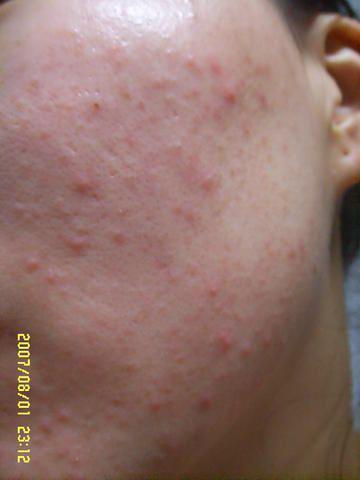fore: (35, 414, 66, 443), (211, 314, 231, 354), (115, 82, 144, 107), (212, 364, 243, 387), (257, 322, 279, 353), (244, 54, 272, 78), (196, 275, 224, 299), (232, 334, 260, 354), (150, 71, 173, 94), (106, 223, 128, 247), (194, 390, 219, 411), (71, 233, 91, 259), (37, 118, 56, 145), (252, 92, 274, 113), (141, 393, 164, 413), (199, 174, 220, 195), (186, 149, 205, 171), (219, 87, 240, 106), (41, 266, 62, 284), (50, 404, 72, 421), (18, 253, 40, 269), (206, 56, 221, 77), (117, 343, 137, 358), (185, 80, 205, 94), (81, 172, 95, 190)
